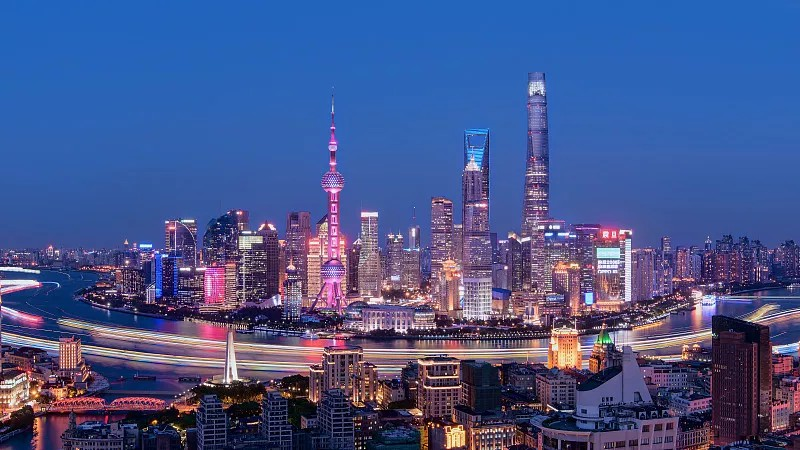Oriental: (306, 86, 348, 317)
